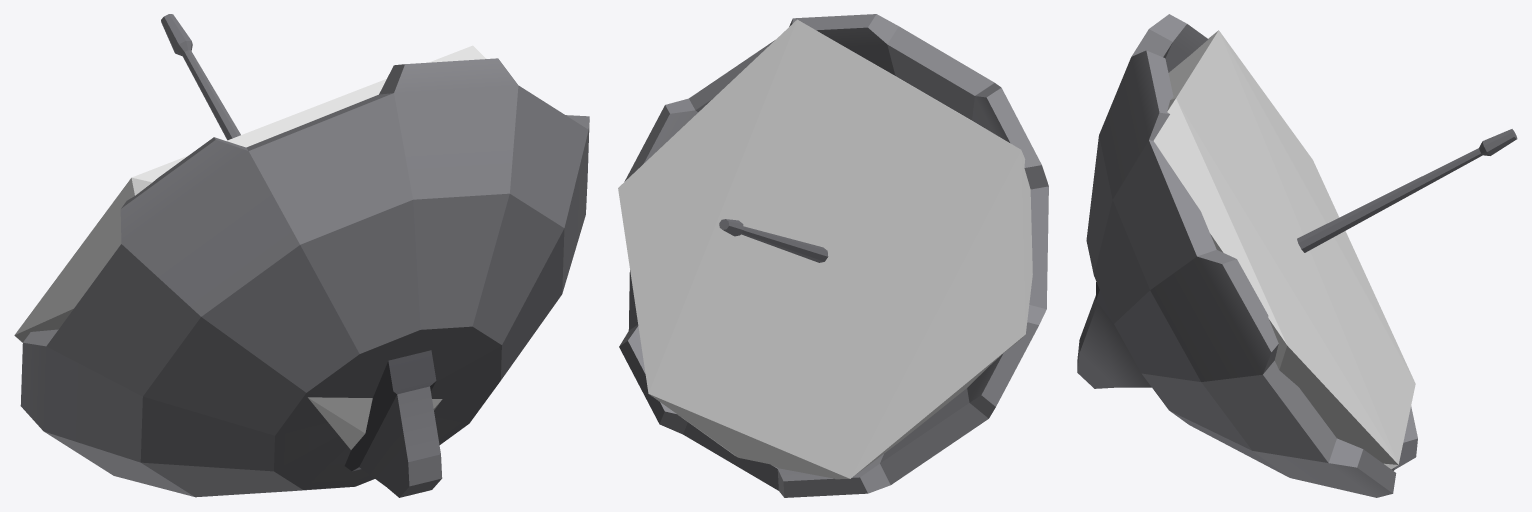
The model's file is SM_Prop_Satellite_01.fbx.
The picture shows the model from 3 angles, left to right: view 1: azimuth 30°, elevation 25°; view 2: azimuth 150°, elevation 25°; view 3: azimuth 270°, elevation 25°; orthographic projection. The views are drawn at different scales.
Visible parts, largest first — view 1: SM_Prop_Satellite_01_LOD0, SM_Prop_Satellite_01_ConvexHulls; view 2: SM_Prop_Satellite_01_ConvexHulls, SM_Prop_Satellite_01_LOD0; view 3: SM_Prop_Satellite_01_LOD0, SM_Prop_Satellite_01_ConvexHulls.
Boxes of the visible parts, box(x1,y1,x2,y2) form: SM_Prop_Satellite_01_LOD0: box(20, 14, 589, 497); SM_Prop_Satellite_01_ConvexHulls: box(14, 45, 486, 449); SM_Prop_Satellite_01_ConvexHulls: box(618, 19, 1032, 479); SM_Prop_Satellite_01_LOD0: box(619, 14, 1048, 497); SM_Prop_Satellite_01_LOD0: box(1077, 14, 1517, 497); SM_Prop_Satellite_01_ConvexHulls: box(1153, 30, 1415, 469).
Bounding box in the file's own units: 139 × 171 × 150.
Materials: 1 (1 with a texture image).
